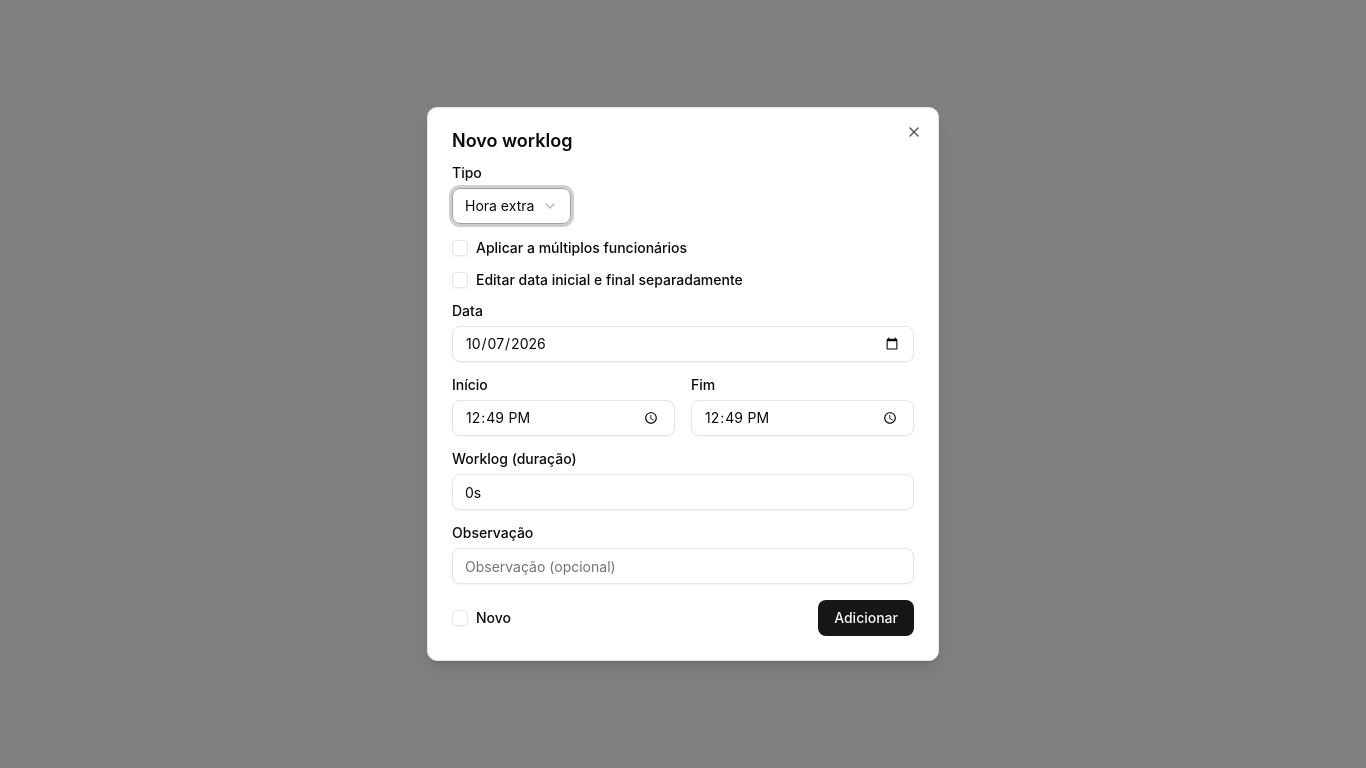
WorkLogFormModal › advanced mode (datetime-local inputs) › recalculates the duration text field when the start/end date inputs change
Click the 2nd checkbox named "editar data inicial e final separadamente" at (460, 280), box [452,272,468,288]
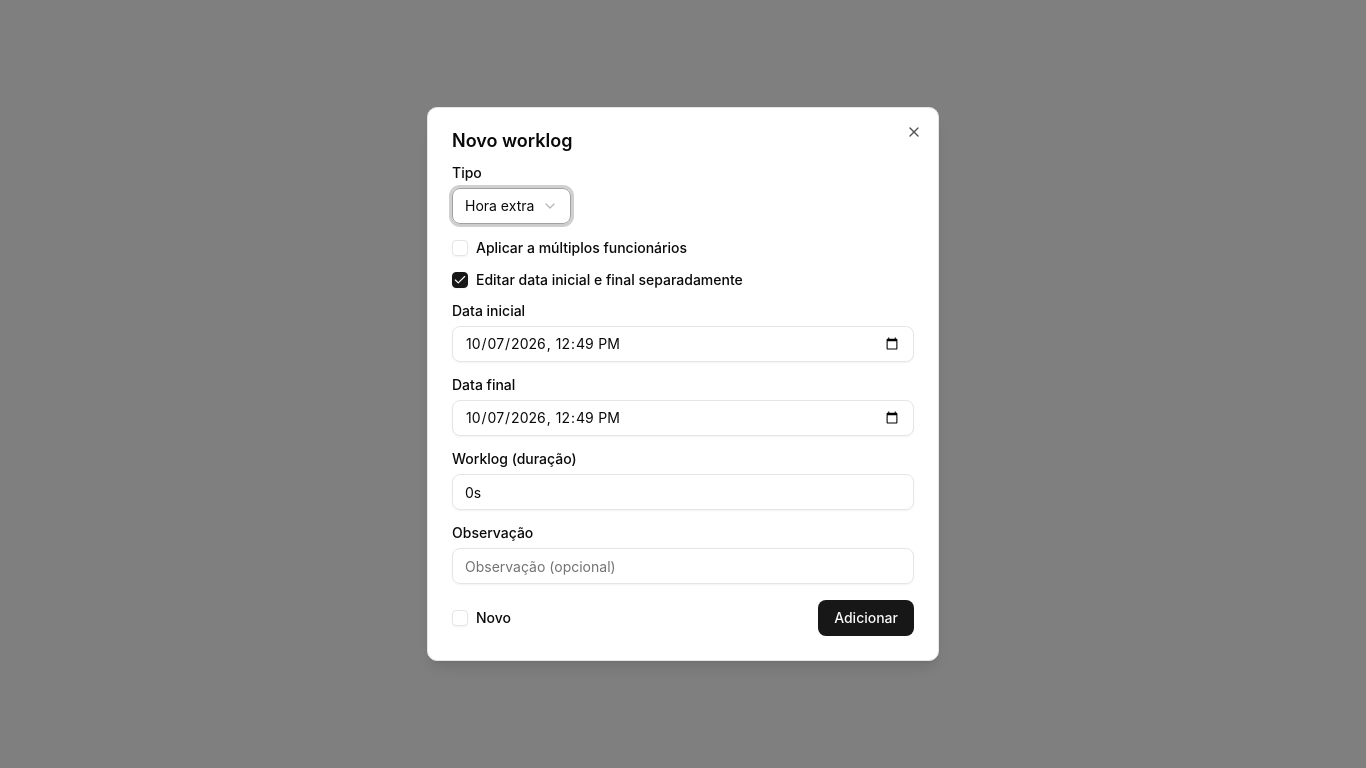
Replace the text in the 1st field with "2026-01-01T08:00" at (683, 344), box [452,326,914,362]
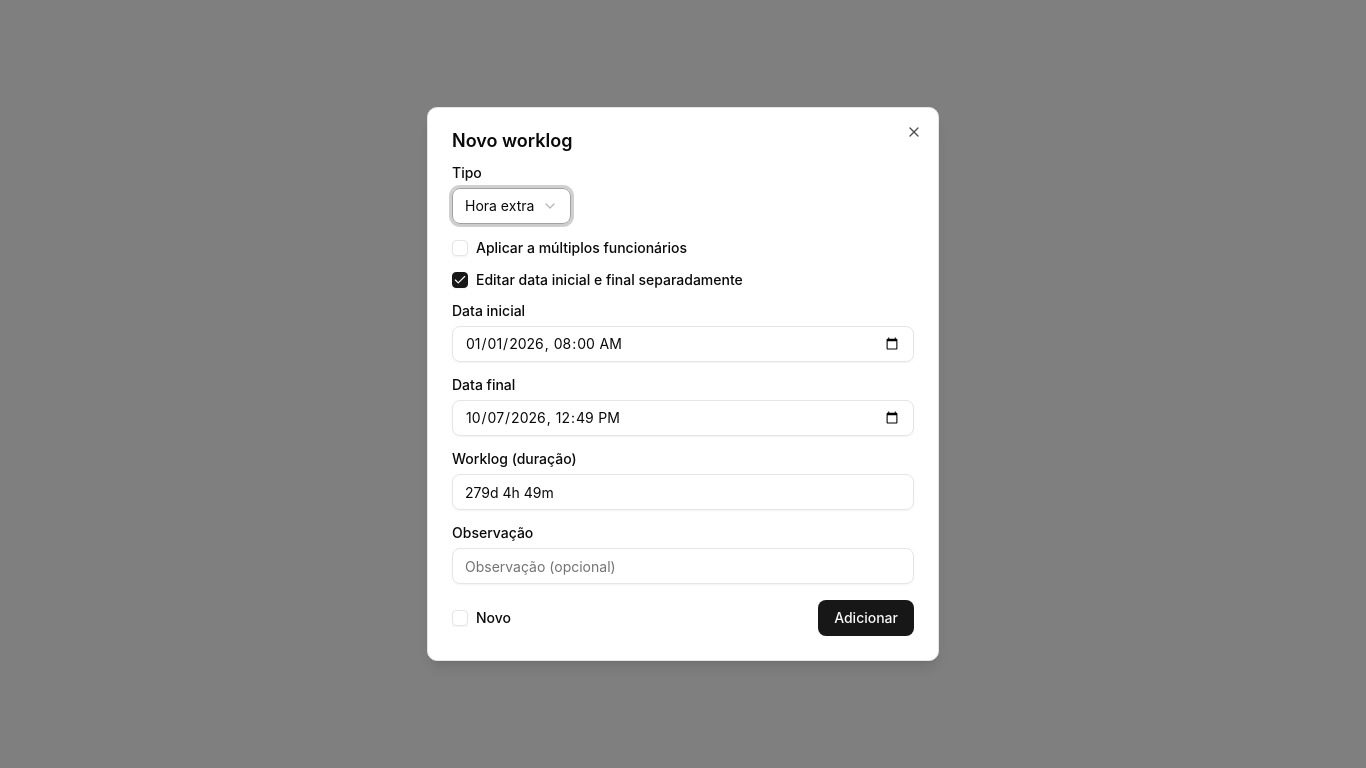
Replace the text in the field below "Data final" with "2026-01-01T09:30" at (683, 418), box [452,400,914,436]
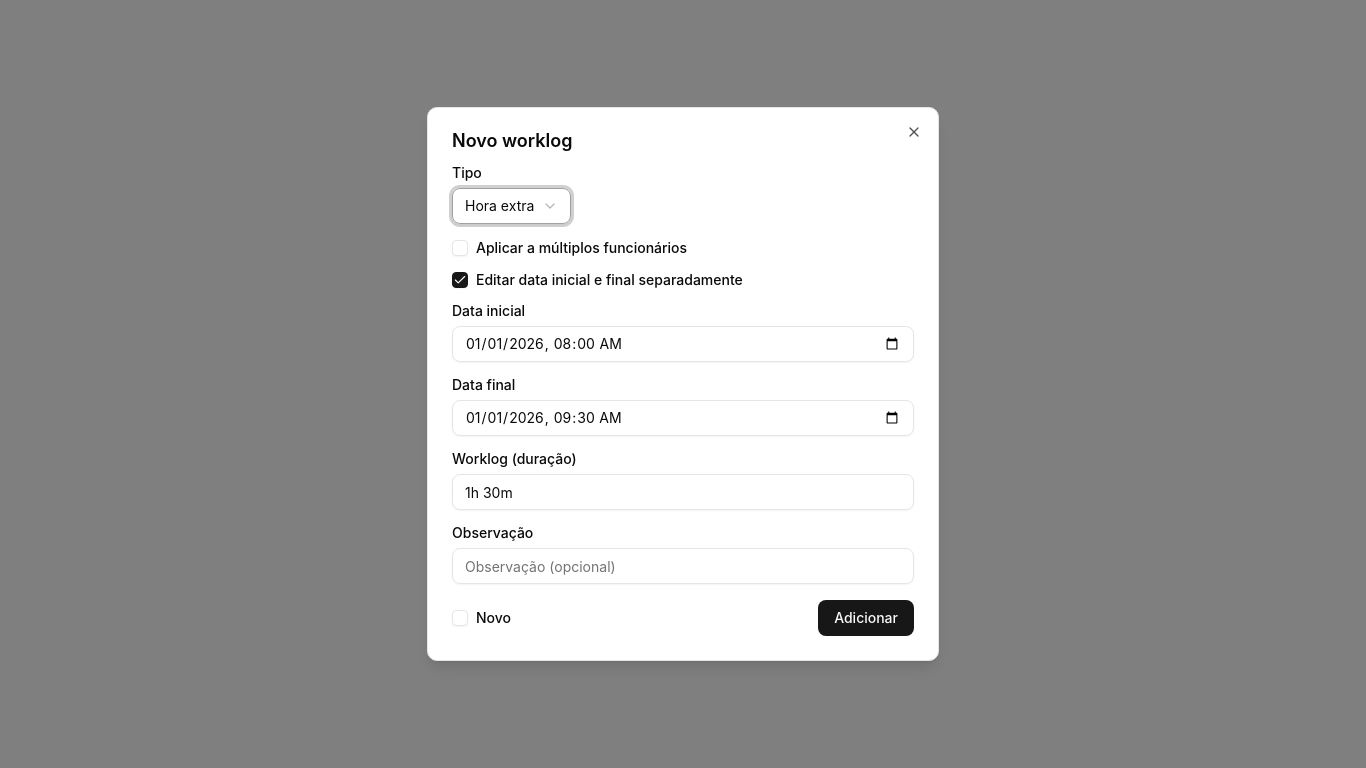
Now the field with placeholder "Ex.: 1h 30m" below "Worklog (duração)" holds "1h 30m", box [452,474,914,510]
